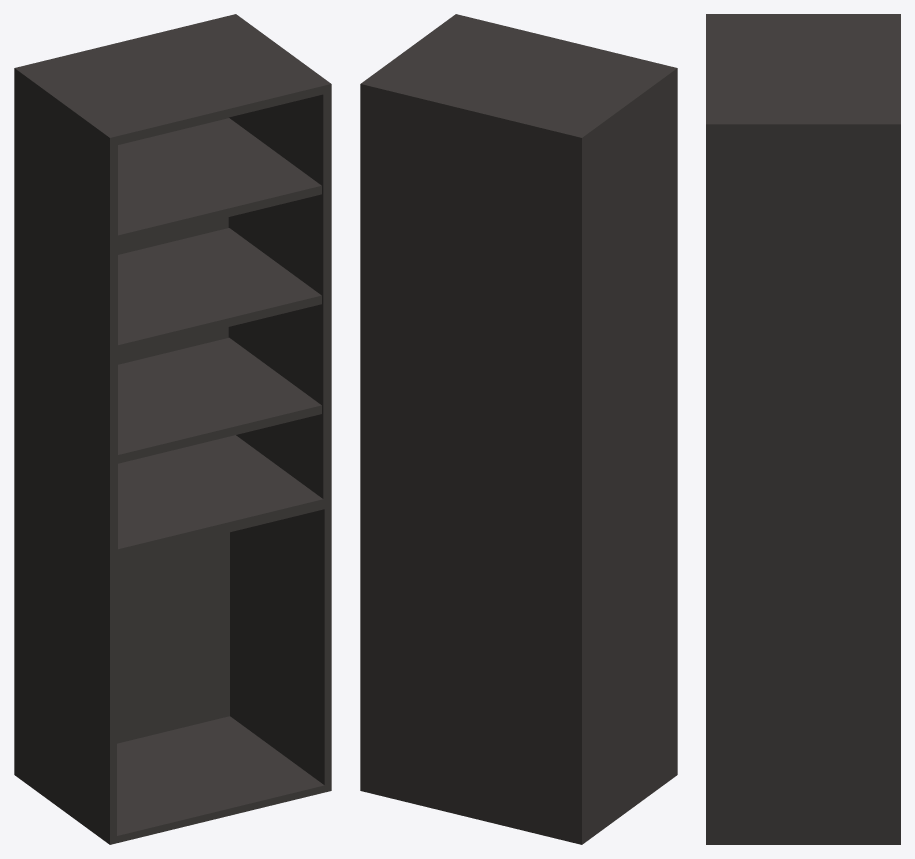
The model's file is Cupboard_08_01.fbx.
3 renders of one model, left to right at view 1: azimuth 30°, elevation 25°; view 2: azimuth 150°, elevation 25°; view 3: azimuth 270°, elevation 25°, orthographic.
Parts seen in each view (by area): view 1: Cupboard_08_01; view 2: Cupboard_08_01; view 3: Cupboard_08_01.
Boxes of the visible parts, x1,y1,x2,y2 form: Cupboard_08_01: (14, 14, 331, 844); Cupboard_08_01: (360, 14, 677, 844); Cupboard_08_01: (706, 14, 900, 844).
Size of the model in its own units: 65.69 by 200 by 49.04.
